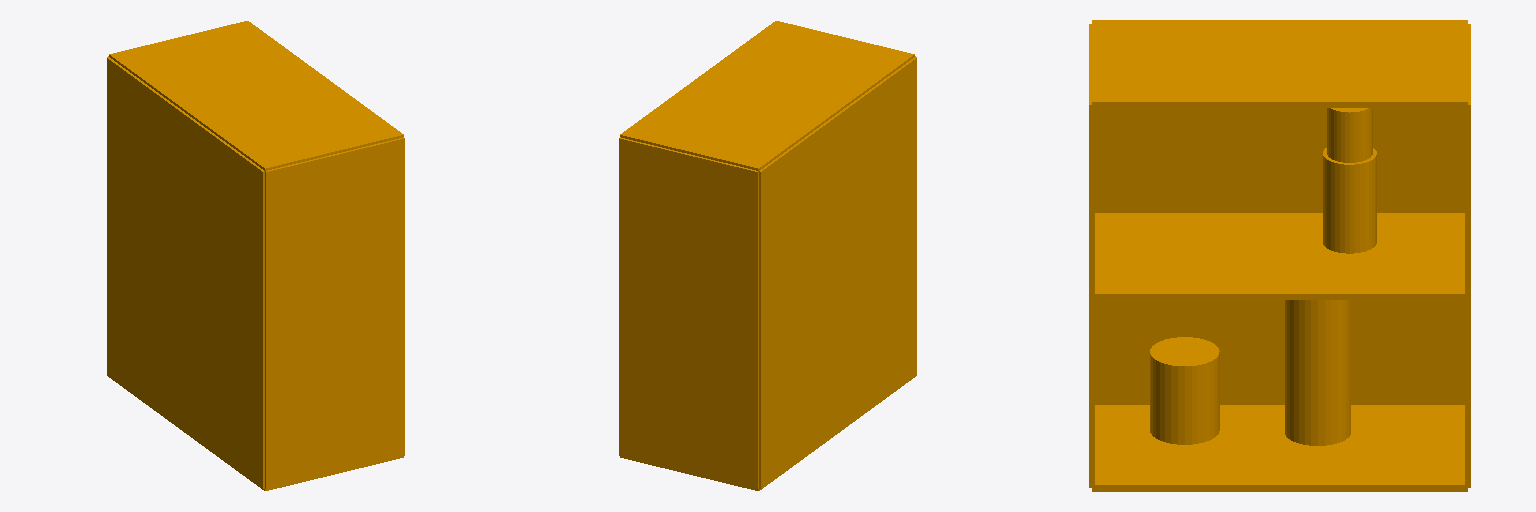
URDF robot description (syn_can_cabinet_1469):
<?xml version="1.0" ?>
<robot name="syn_can_cabinet_1469">
    <link concave="yes" name="base_link">
        <inertial>
            <origin rpy="0 0 0" xyz="0 0 0"/>
            <mass value="0.0"/>
            <inertia ixx="1e-08" ixy="0" ixz="0" iyy="1e-08" iyz="0" izz="1e-08"/>
        </inertial>
        <visual>
            <origin xyz="0 0 0" rpy="0 0 0" />
            <geometry>
                <mesh filename="syn_can_cabinet_1469.obj" scale="1.000000 1.000000 1.000000"/>
            </geometry>         
        </visual>

        <collision concave="yes">
            <origin xyz="0 0 0" rpy="0 0 0"/>
            <geometry>
                <mesh filename="syn_can_cabinet_1469.obj" scale="1.000000 1.000000 1.000000"/>
            </geometry>
        </collision>
    </link>
</robot>
    

--- Render facts (derived) ---
3 views of the same robot in one strip: view 1: azimuth 30°, elevation 25°; view 2: azimuth 150°, elevation 25°; view 3: azimuth 270°, elevation 25° (orthographic).
Model syn_can_cabinet_1469 with 1 links and 0 joints (none), rooted at base_link, posed all joints at 0.
Visible links, largest first — view 1: base_link; view 2: base_link; view 3: base_link.
Boxes of the visible links, x1,y1,x2,y2 form: base_link: (107,21,404,490); base_link: (619,21,916,490); base_link: (1089,20,1470,491).
Bounding box of the posed robot: 0.1746 × 0.3396 × 0.381 m (x, y, z).
1 mesh visuals loaded from 1 distinct referenced files (1 OBJ).
